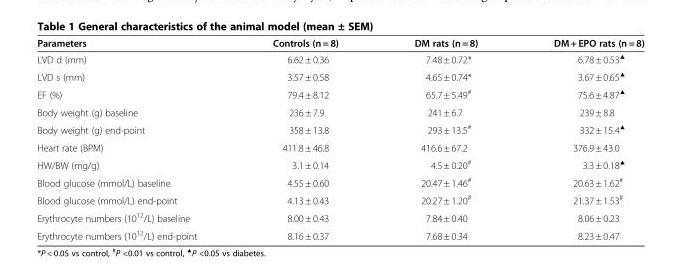table: (36, 36, 643, 241)
table column: (36, 36, 234, 241), (234, 36, 375, 241), (375, 36, 515, 241), (515, 36, 643, 241)
table column header: (36, 36, 643, 50)
table row: (36, 84, 643, 103), (36, 120, 643, 138), (36, 155, 643, 173), (36, 190, 643, 208), (36, 50, 643, 67), (36, 67, 643, 84), (36, 103, 643, 120), (36, 138, 643, 155), (36, 173, 643, 190), (36, 208, 643, 225), (36, 225, 643, 241), (36, 36, 643, 50)
